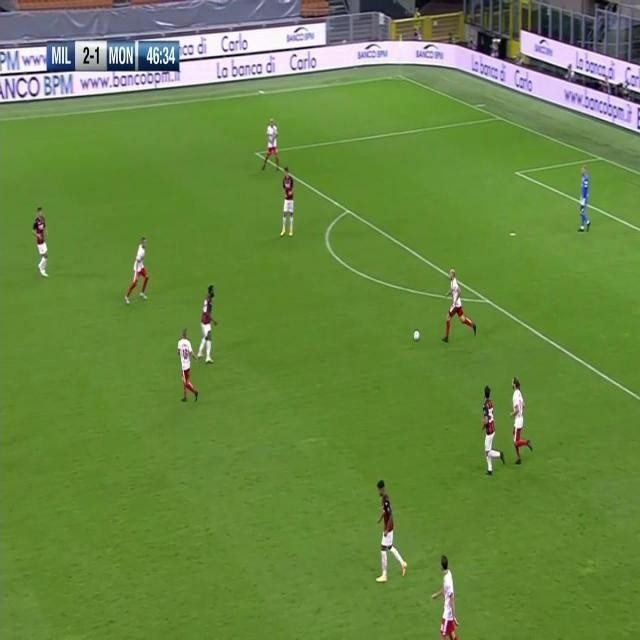ball: (413, 326, 421, 342)
goalkeeper: (577, 161, 593, 232)
player: (374, 482, 407, 587), (443, 267, 478, 345), (431, 553, 459, 639), (480, 387, 504, 476), (510, 375, 532, 465), (124, 236, 152, 305), (196, 285, 219, 366), (177, 328, 200, 405), (31, 204, 51, 278), (278, 166, 296, 241), (260, 116, 282, 174)
